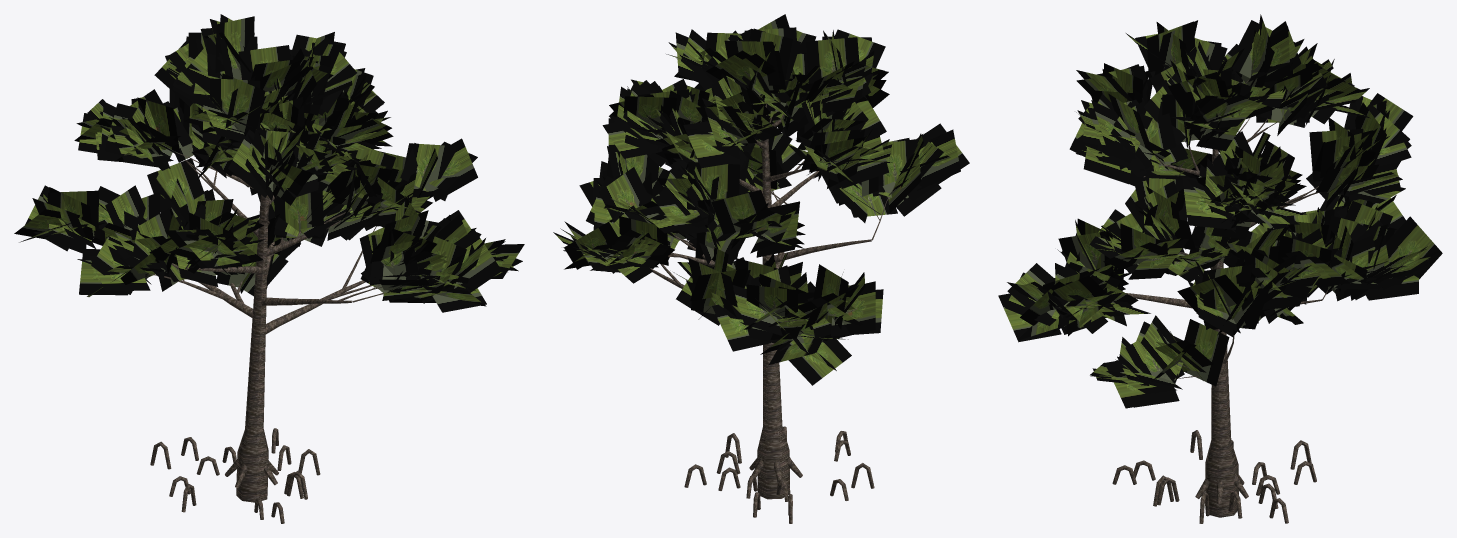
File: brug_lod0.glb
3 renders of one model, left to right at view 1: azimuth 30°, elevation 25°; view 2: azimuth 150°, elevation 25°; view 3: azimuth 270°, elevation 25°, orthographic. The views are drawn at different scales.
Parts seen in each view (by area): view 1: lod0; view 2: lod0; view 3: lod0.
Part boxes in pixels (x1=…): lod0: x1=14, y1=14, x2=524, y2=523; lod0: x1=553, y1=14, x2=969, y2=523; lod0: x1=998, y1=14, x2=1442, y2=523.
Size of the model in its own units: 8.1 by 9 by 7.44.
Materials: 2 (2 with a texture image).
